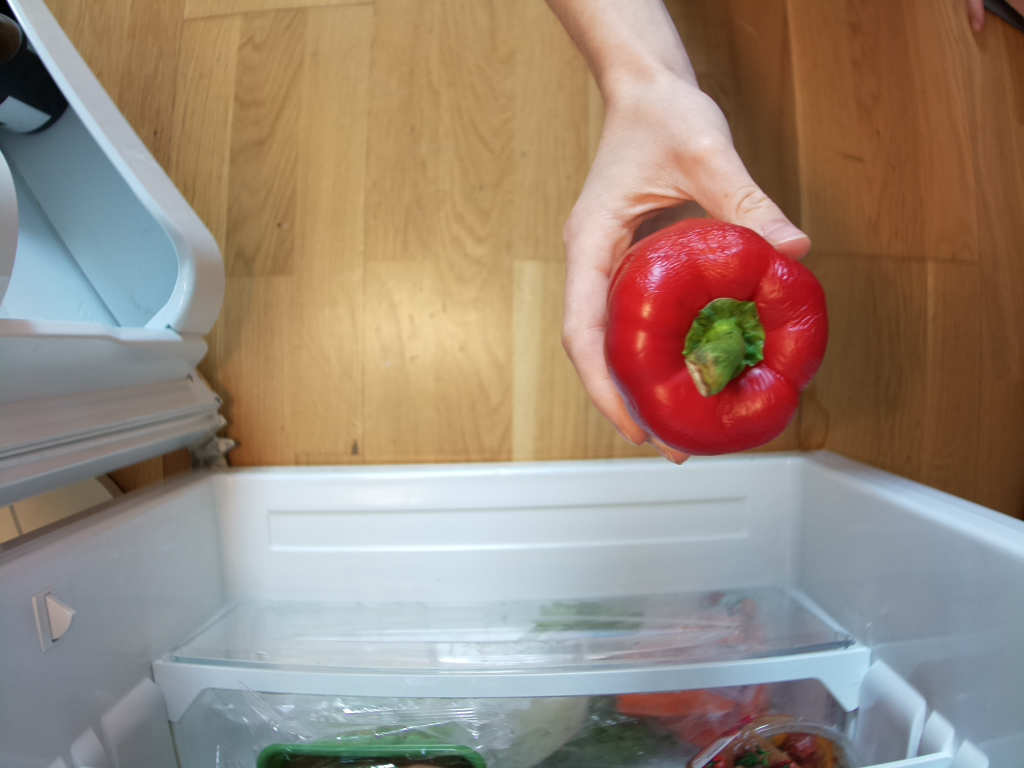pepper-bad: (599, 216, 832, 460)
